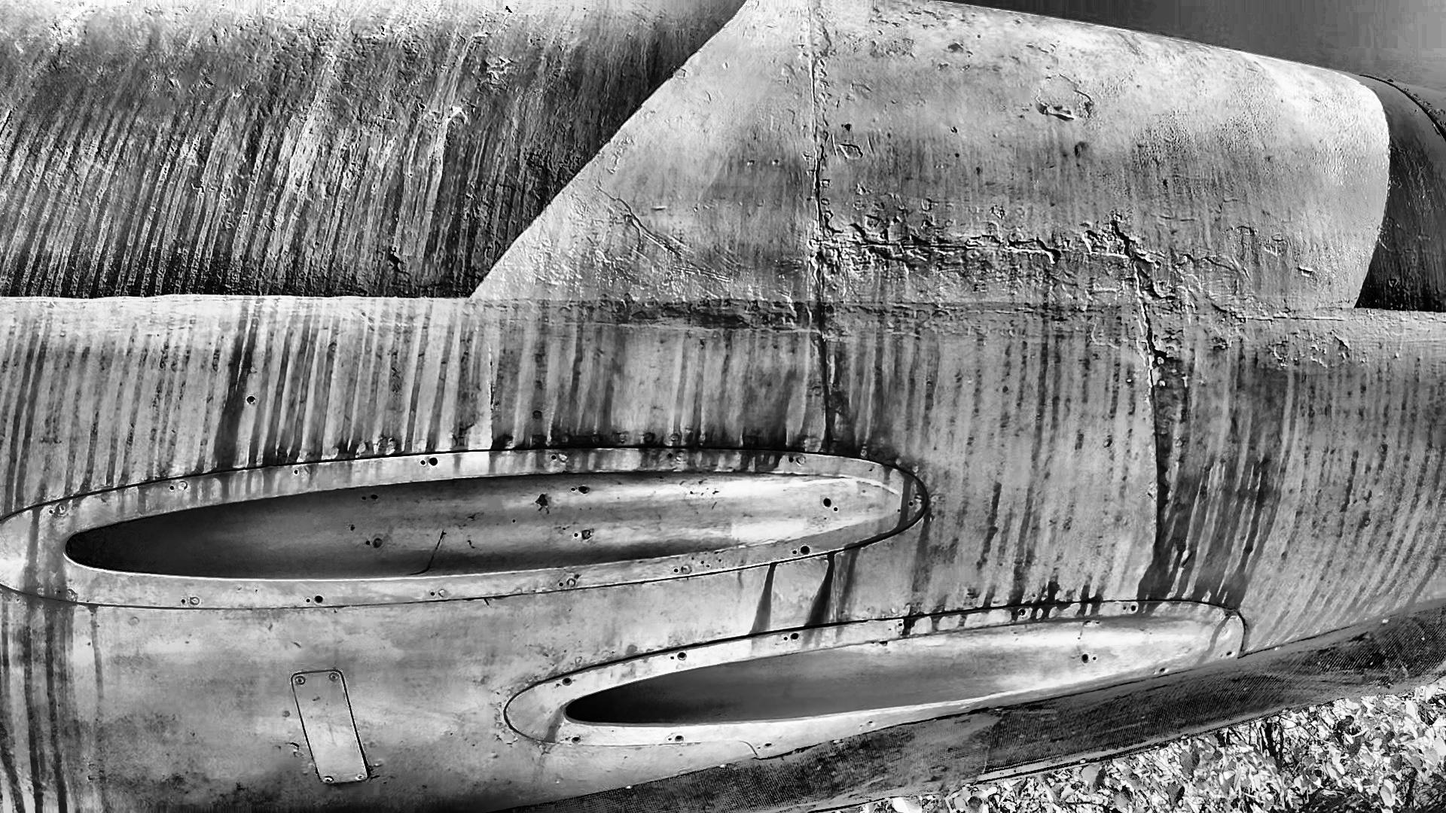missing-head: (429, 456, 439, 467), (800, 544, 810, 555), (314, 594, 324, 604), (1081, 653, 1091, 663), (563, 677, 573, 686), (1018, 607, 1027, 617), (823, 497, 831, 508), (677, 652, 686, 661), (674, 734, 683, 743), (790, 632, 800, 640), (579, 486, 590, 493), (1159, 665, 1167, 674), (572, 735, 582, 742), (371, 494, 380, 501), (1130, 603, 1137, 612), (1226, 650, 1234, 657), (764, 742, 773, 748), (169, 485, 176, 491), (1011, 610, 1017, 617), (56, 589, 62, 595), (181, 598, 187, 604), (420, 459, 426, 465), (365, 540, 371, 546), (551, 454, 557, 460), (667, 452, 673, 458), (908, 501, 914, 507), (306, 597, 311, 604), (574, 531, 579, 538), (789, 456, 794, 463), (362, 495, 367, 501), (555, 682, 561, 687), (571, 486, 576, 492), (1091, 656, 1097, 661), (868, 720, 874, 725), (834, 505, 838, 512), (674, 568, 679, 573), (1225, 612, 1230, 617), (792, 550, 797, 555), (898, 622, 903, 627), (49, 509, 53, 515), (294, 469, 298, 475), (430, 592, 436, 596), (559, 581, 563, 587), (670, 656, 676, 660), (1123, 605, 1127, 611), (757, 745, 761, 751), (565, 736, 569, 741), (668, 736, 672, 741), (784, 636, 788, 641), (859, 724, 863, 729)
paint-peel-off: (1039, 102, 1075, 120)
